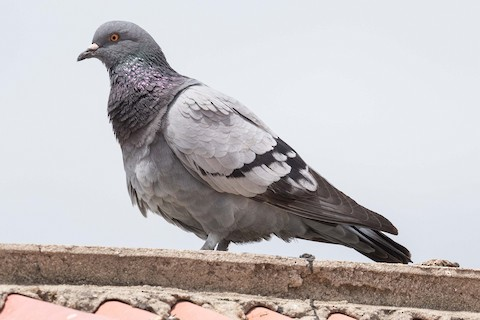pigeon: (75, 16, 417, 268)
